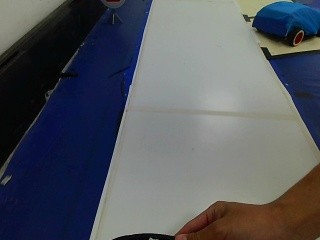car: (243, 0, 318, 53)
